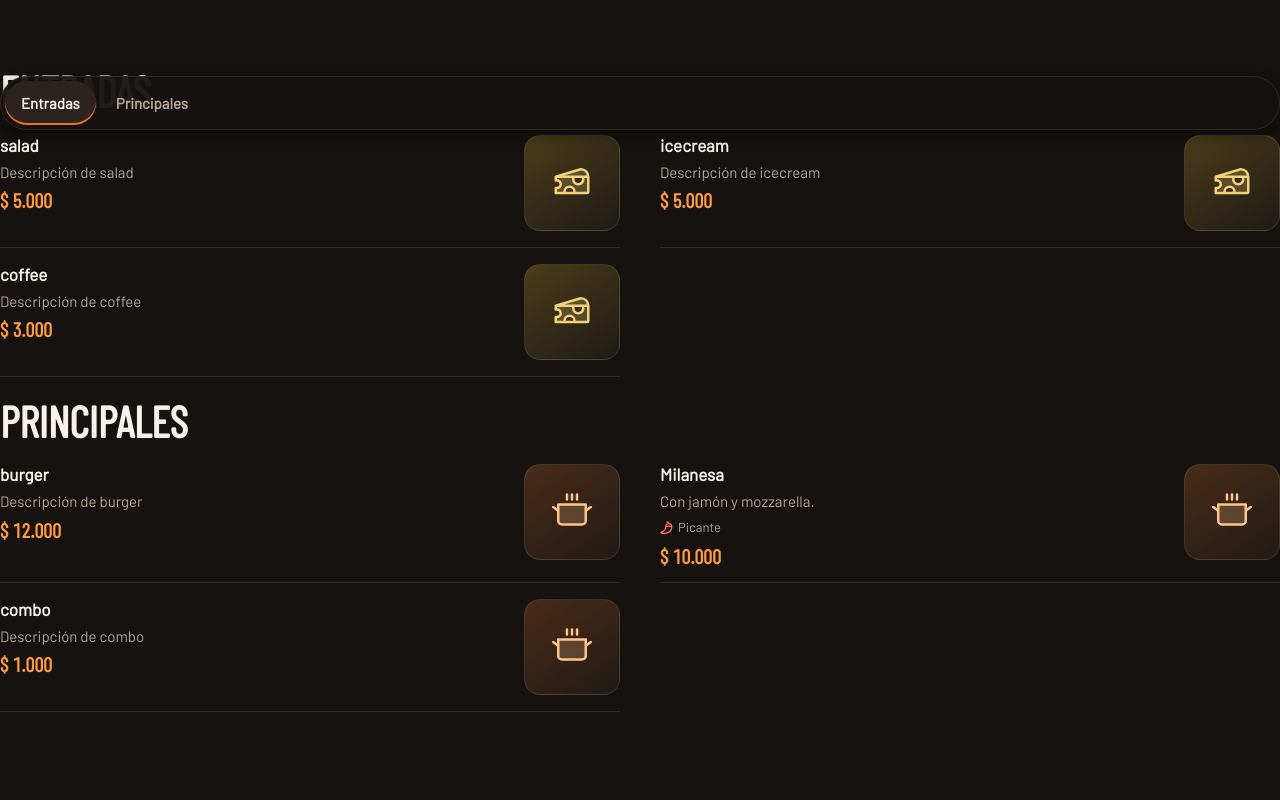
DishSheet: ficha del plato (RF2, RF6, RF14-RF20, RF34, RF43) › grupo obligatorio y "Agregar" (RF16, CL7) › "Agregar" está deshabilitado y su descripción es el mensaje del grupo que falta
The image size is (1280, 800).
(page scrolled)
Expected: the navigation bar is shown, x1=0 y1=76 x2=1279 y2=130
Click the button "burger Descripción de burger $ 12.000": (24, 474) x1=0 y1=448 x2=620 y2=576
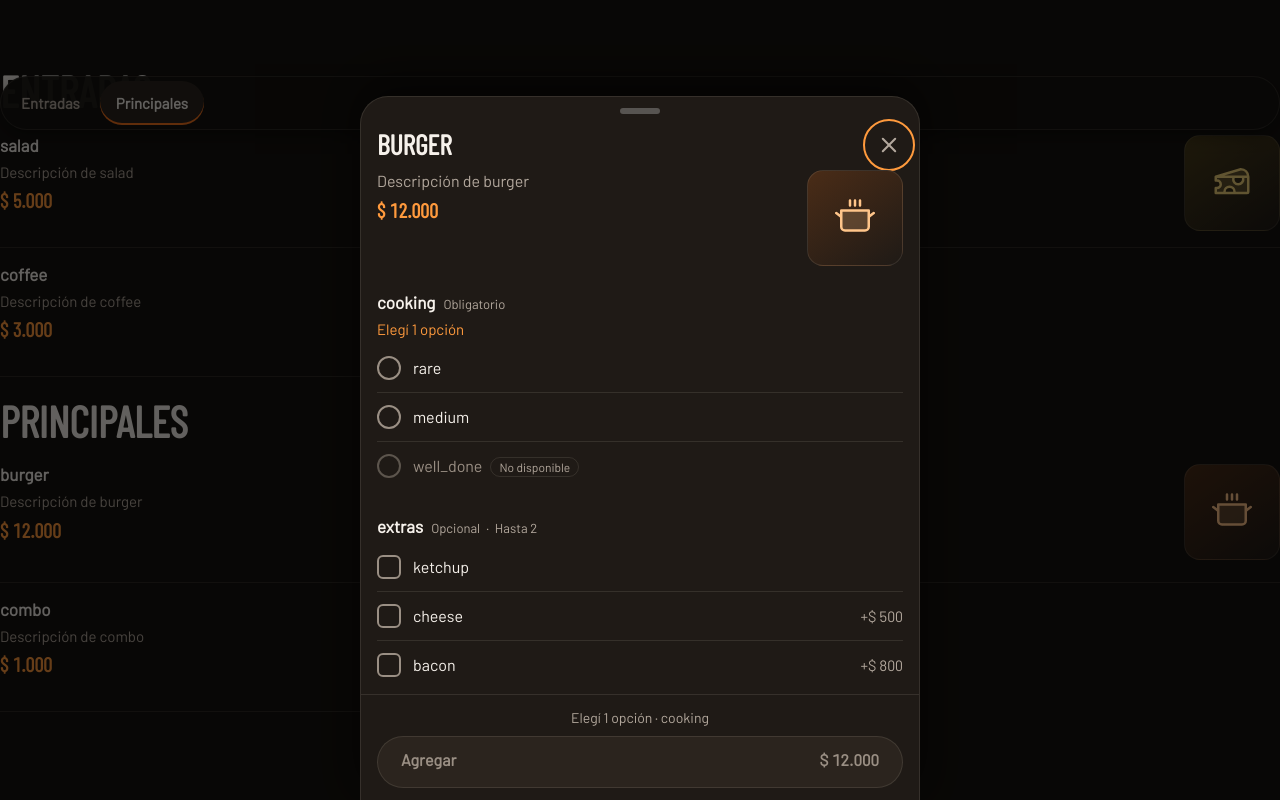
Now the button "Agregar $ 12.000" is disabled, box x1=377 y1=736 x2=903 y2=788
